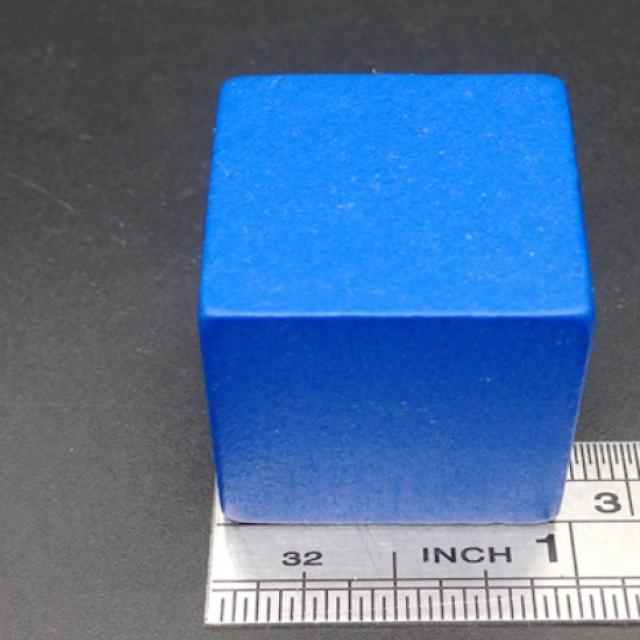bluecube: (196, 70, 597, 528)
